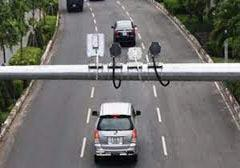car: (82, 91, 154, 166)
